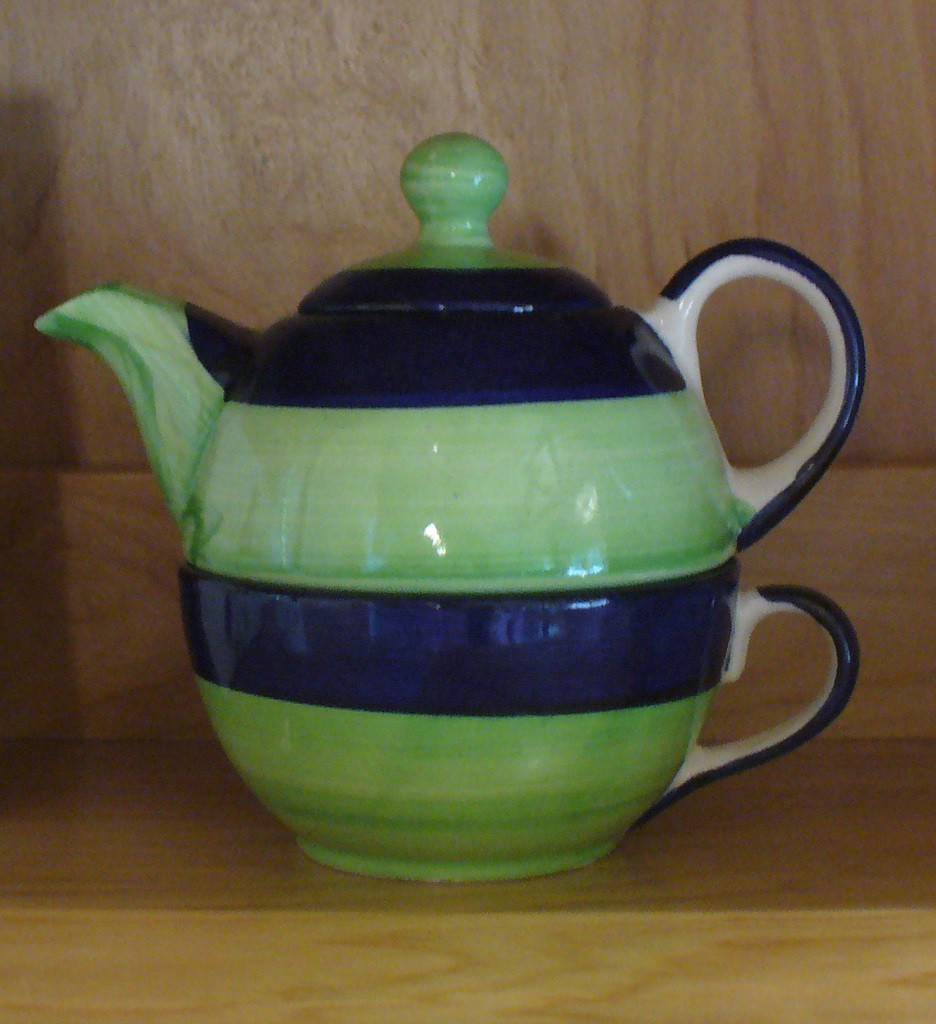teapot: (32, 133, 867, 882)
